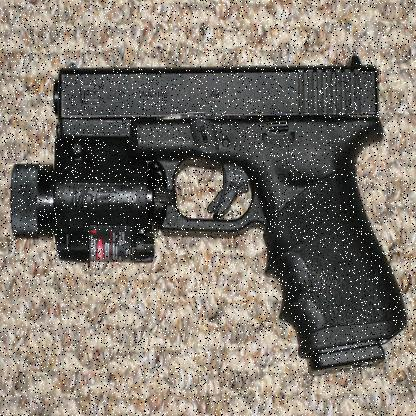pistol: (9, 55, 403, 378)
